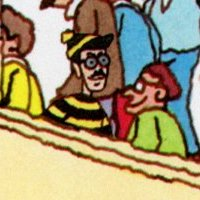odlaw: (72, 33, 109, 93)
